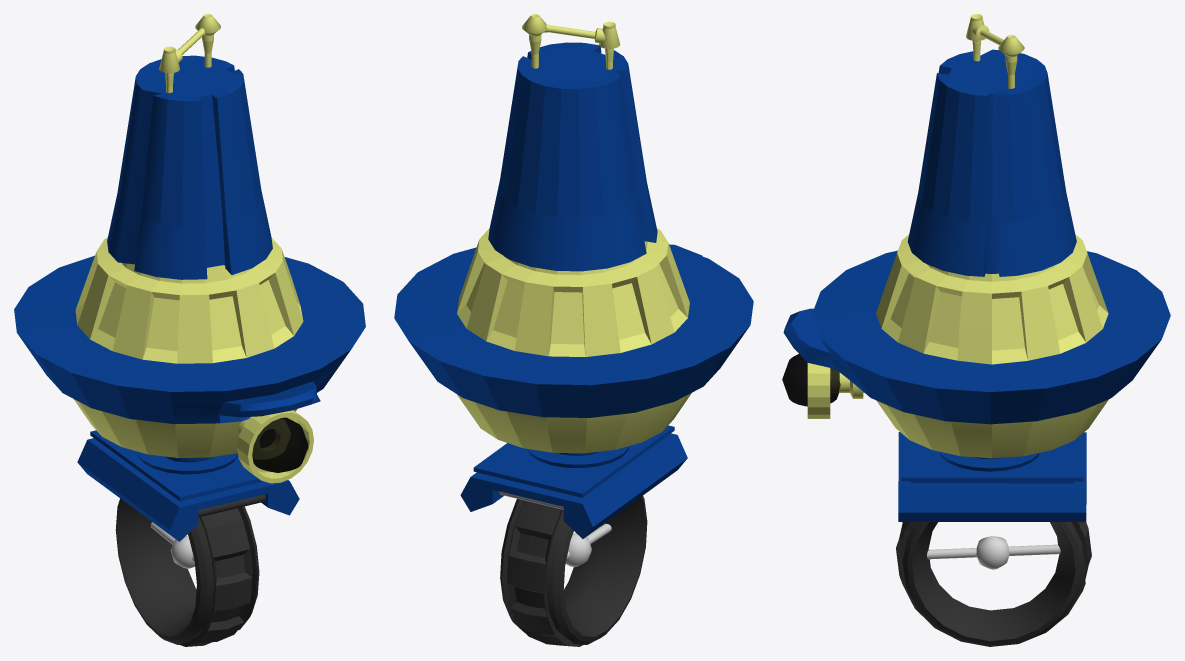
Rendered from BlueBot_model2.fbx.
The picture shows the model from 3 angles, left to right: view 1: azimuth 30°, elevation 25°; view 2: azimuth 150°, elevation 25°; view 3: azimuth 270°, elevation 25°; orthographic projection. The views are drawn at different scales.
Parts seen in each view (by area): view 1: Minion; view 2: Minion; view 3: Minion.
Boxes of the visible parts, left/top/right/bottom form: Minion: left=14, top=14, right=365, bottom=646; Minion: left=394, top=14, right=753, bottom=646; Minion: left=782, top=14, right=1170, bottom=646.
Bounding box in the file's own units: 0.1255 × 0.2386 × 0.1359.
